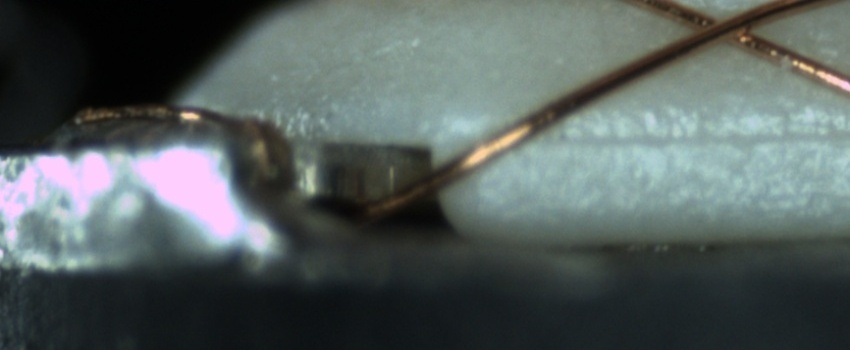CL: (681, 2, 781, 53)
DL: (516, 103, 849, 169)
TE: (59, 103, 290, 191)
